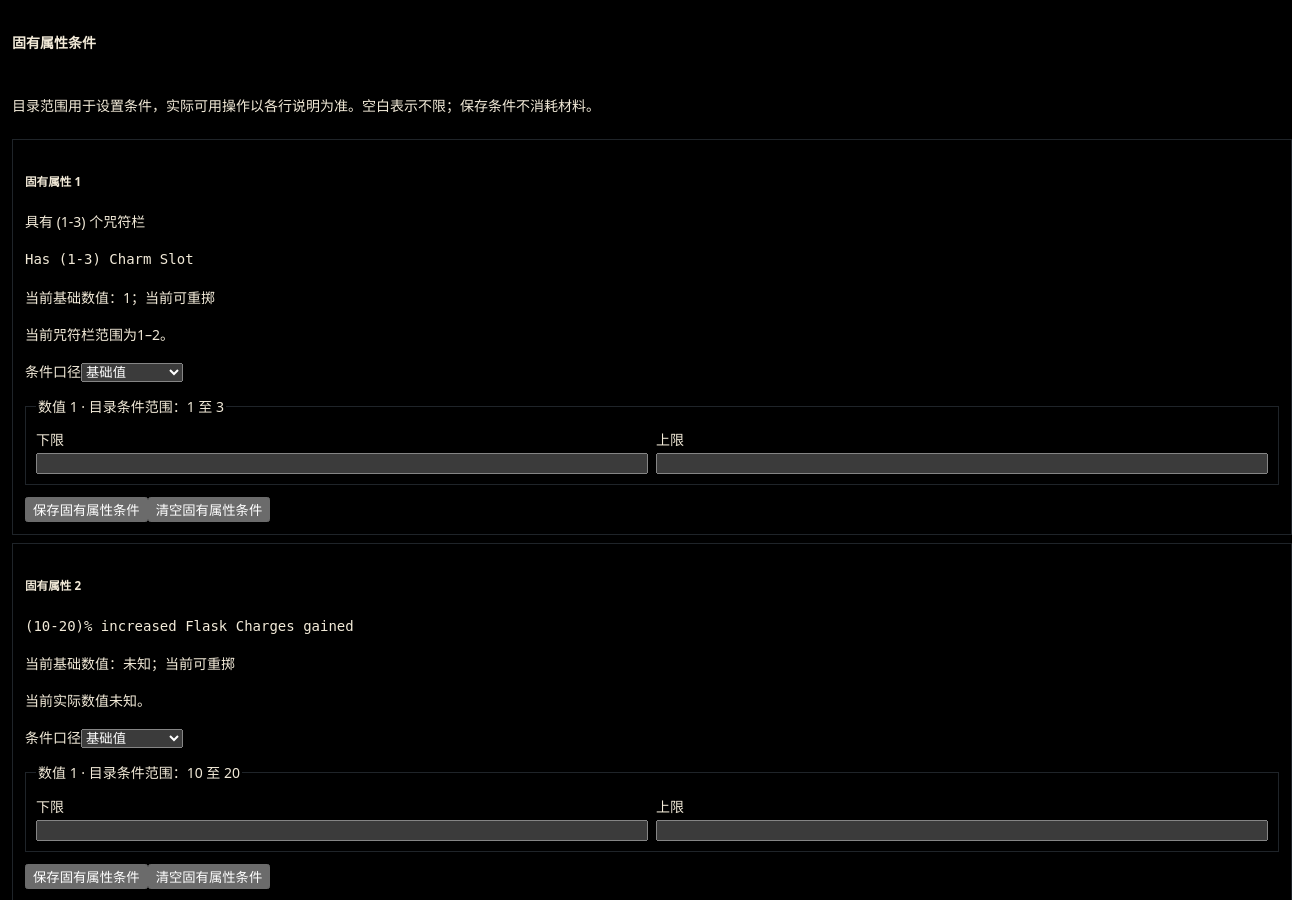
Test: 目录1–3和当前1–2分别展示，目标3可保存但原因明确无交集
The width and height of the screenshot is (1292, 900).
Check: the text "具有 (1-3) 个咒符栏" is shown, box [25, 212, 145, 231]
Check: the text "数值 1 · 目录条件范围：1 至 3" is shown, box [36, 395, 226, 418]
Step 1. Type "3" into the number field named "固有属性 1 · 数值 1 下限" → (342, 464), box [36, 453, 648, 474]
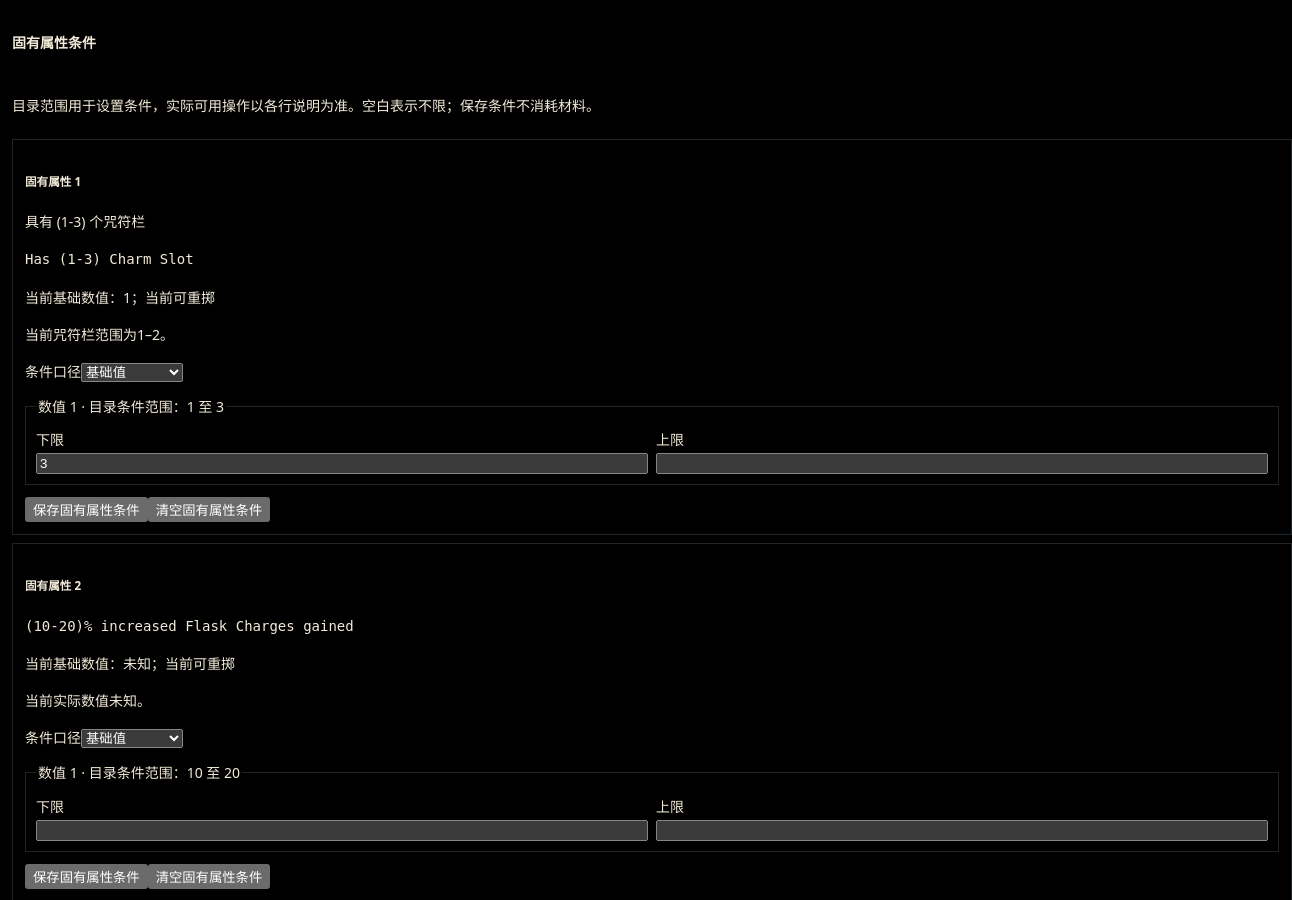
Step 2. Click the button with aria-label "保存固有属性 1 条件" → click(86, 510), box [25, 497, 148, 522]
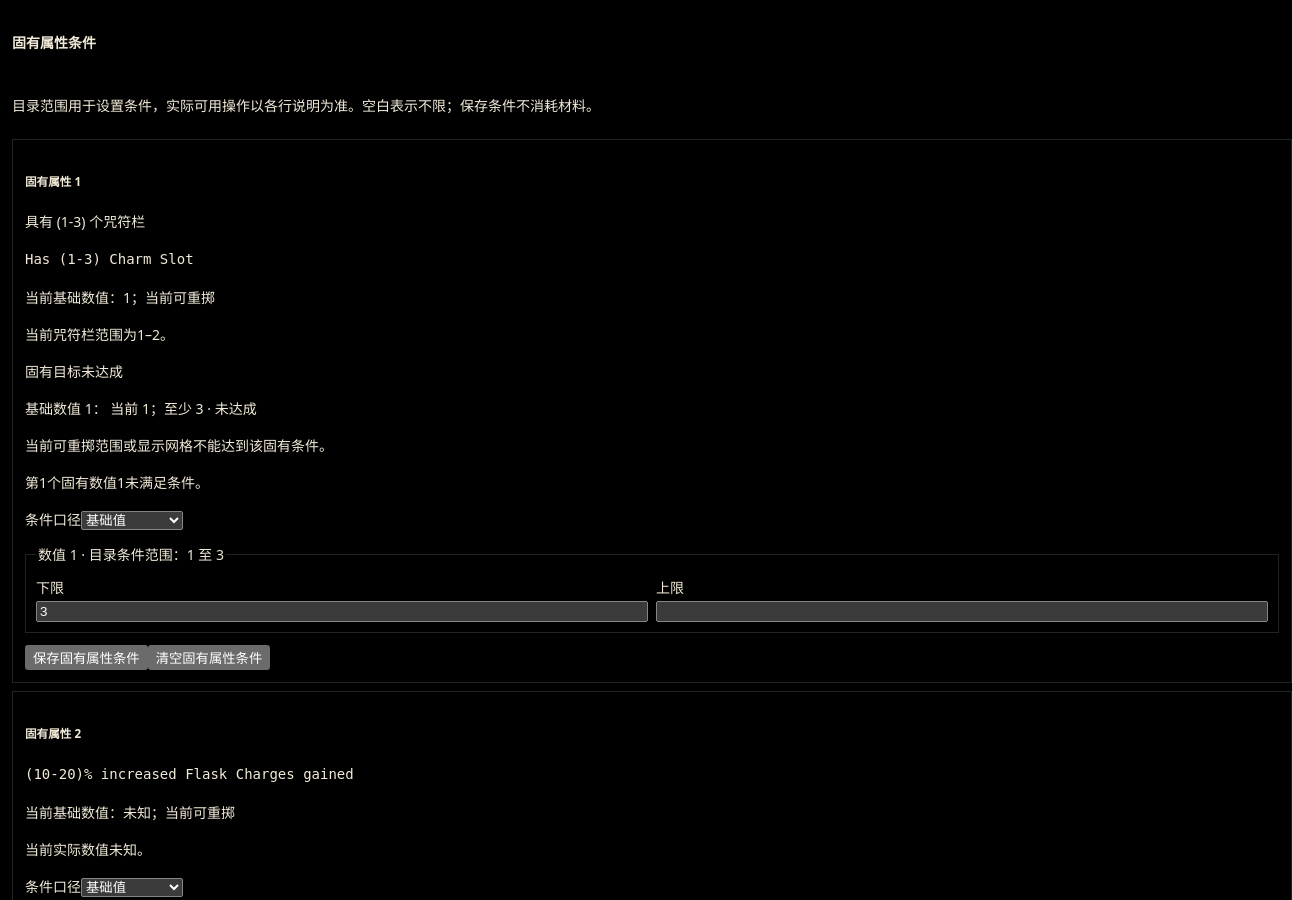
Check: the text "固有目标未达成" is shown, box [25, 362, 123, 381]
Check: the text "当前可重掷范围或显示网格不能达到该固有条件。" is shown, box [25, 436, 333, 455]
